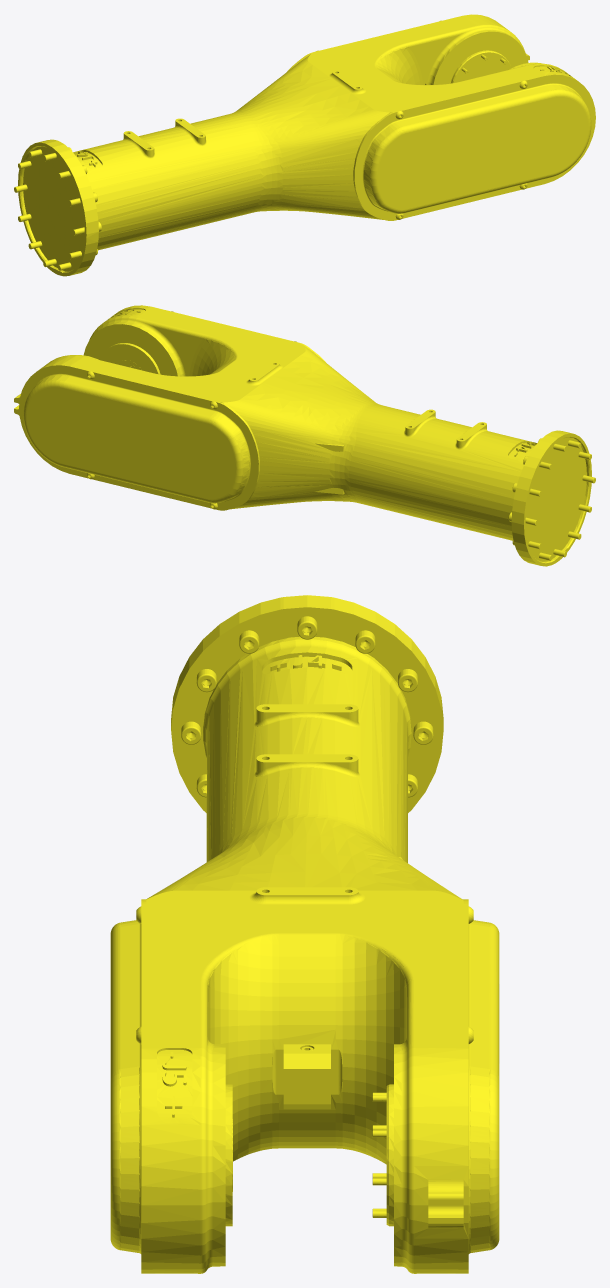
3 views of the same model, one above another, from view 1: azimuth 30°, elevation 25°; view 2: azimuth 150°, elevation 25°; view 3: azimuth 270°, elevation 25° (orthographic). The views are drawn at different scales.
Visible parts, largest first — view 1: Link4; view 2: Link4; view 3: Link4.
Part boxes in pixels (x1,y1,x2,y2): Link4: (14,14,595,276); Link4: (14,305,595,566); Link4: (110,595,499,1273).
Bounding box in the file's own units: 0.4994 × 0.164 × 0.115.
